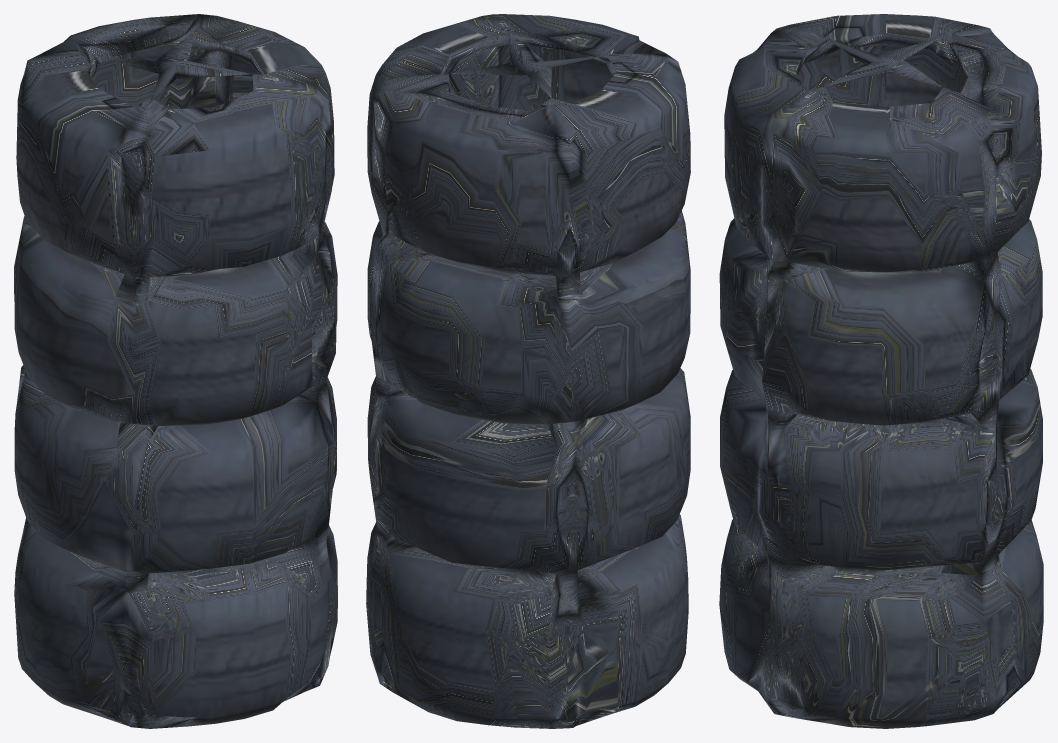
Rendered from tyre_stack.glb.
The picture shows the model from 3 angles, left to right: view 1: azimuth 30°, elevation 25°; view 2: azimuth 150°, elevation 25°; view 3: azimuth 270°, elevation 25°; orthographic projection.
Parts seen in each view (by area): view 1: tripo_node_6aa10fe8-41db-4d9e-8a12-bb3d24cd18c5; view 2: tripo_node_6aa10fe8-41db-4d9e-8a12-bb3d24cd18c5; view 3: tripo_node_6aa10fe8-41db-4d9e-8a12-bb3d24cd18c5.
Part boxes in pixels (x1,y1,x2,y2): tripo_node_6aa10fe8-41db-4d9e-8a12-bb3d24cd18c5: (14,14,337,728); tripo_node_6aa10fe8-41db-4d9e-8a12-bb3d24cd18c5: (366,14,690,728); tripo_node_6aa10fe8-41db-4d9e-8a12-bb3d24cd18c5: (719,14,1043,728).
Bounding box in the file's own units: 0.4284 × 0.9 × 0.427.
Materials: 1 (1 with a texture image).
